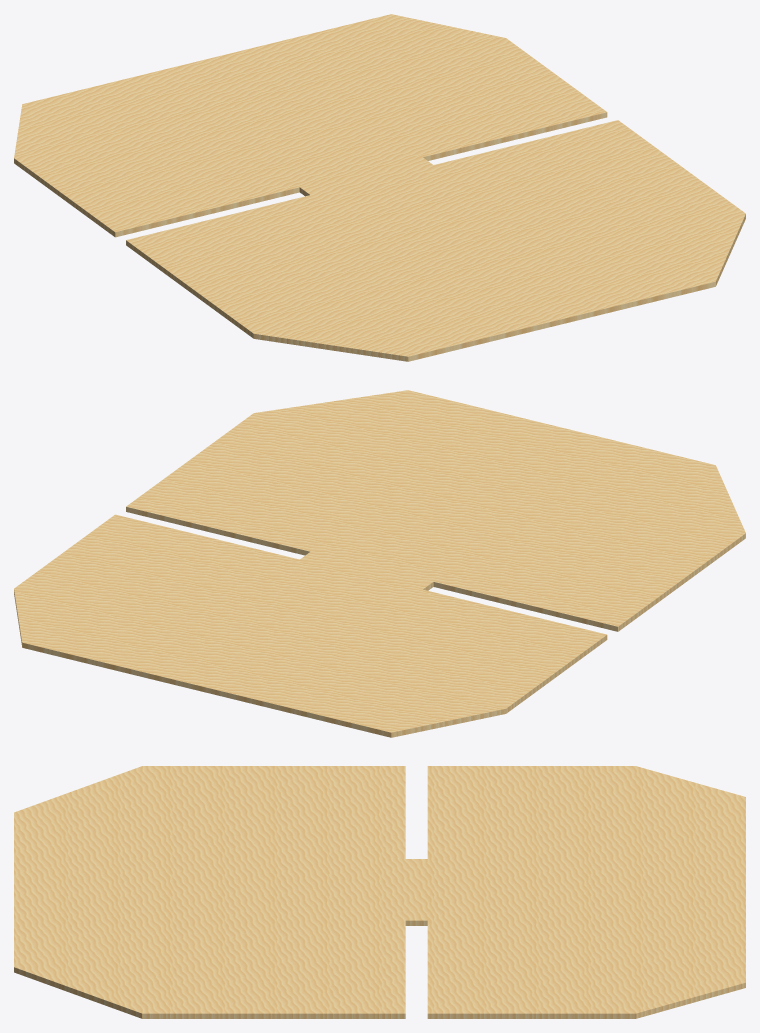
File: seabed-15-CbvrYy3n.glb
3 renders of one model, top to bottom at view 1: azimuth 30°, elevation 25°; view 2: azimuth 150°, elevation 25°; view 3: azimuth 270°, elevation 25°, orthographic. The views are drawn at different scales.
Visible parts, largest first — view 1: SW_SandShelf; view 2: SW_SandShelf; view 3: SW_SandShelf.
Part boxes in pixels (bbox=[...]): SW_SandShelf: bbox=[14, 14, 745, 361]; SW_SandShelf: bbox=[14, 390, 745, 737]; SW_SandShelf: bbox=[14, 766, 745, 1018].
Size of what is drawn, in the model's own units: 32 by 0.32 by 40.
Materials: 1 (1 with a texture image).
